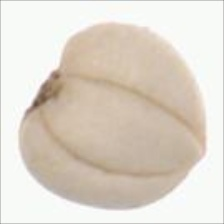L5: (42, 76, 200, 178), (22, 60, 78, 120), (182, 113, 210, 179)
L6: (16, 20, 212, 214)
